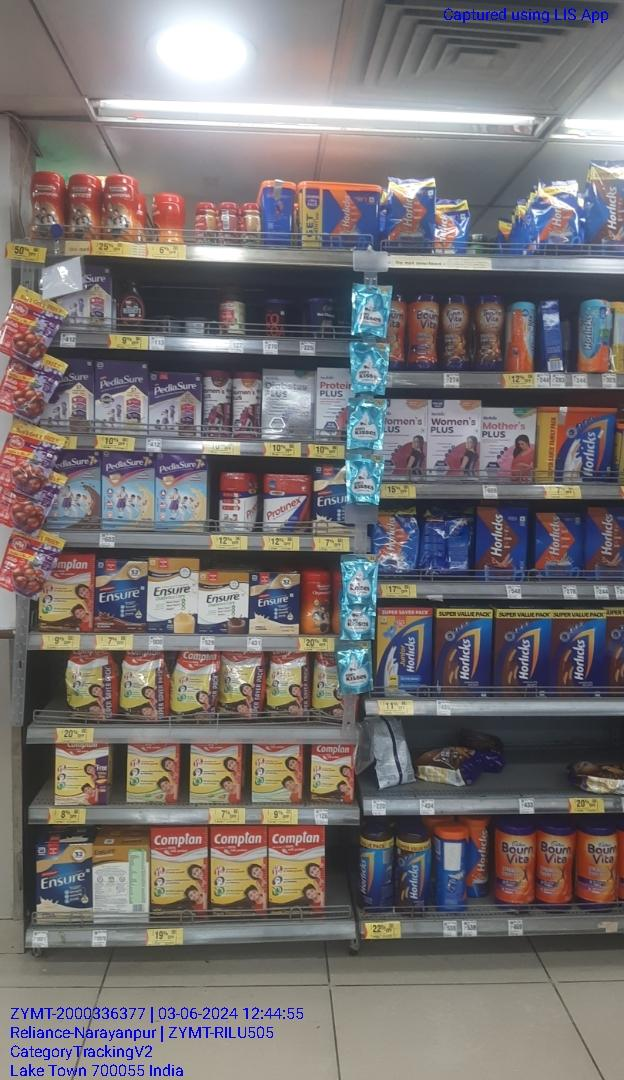BOURN_VITA_500_G_JAR: (578, 819, 619, 913), (495, 819, 535, 910), (537, 818, 574, 911)
BOURN_VITA_FIVE_STAR_MAGIC_500_G_JAR: (472, 293, 505, 371), (440, 294, 469, 369)
HORLICKS_LITE_REGULAR_MALT_500_GM_JAR: (578, 298, 609, 371)
HORLICK_MALT_1_KG_CONTAINER: (536, 406, 615, 483), (299, 179, 379, 248)
PEDIASURE_CHOCOLATE_500_G_PACK: (148, 371, 199, 434)
PEDIASURE_VANILLA_500_G_PACK: (95, 362, 147, 437)
PROTINEX_CHOCOLATE_400_G_JAR: (265, 474, 311, 531)
